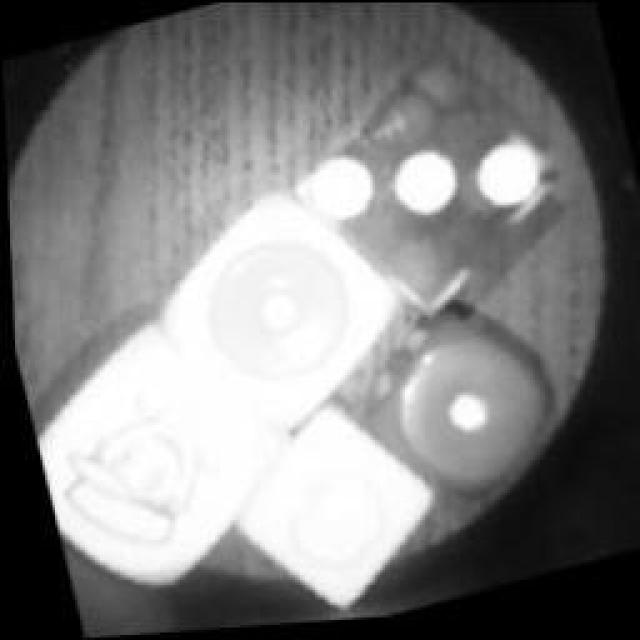dice_1: (131, 161, 424, 459), (349, 296, 579, 532)
dice_3: (262, 13, 592, 345)
